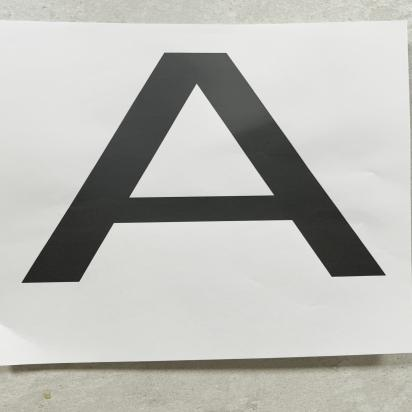seat: (37, 36, 412, 306)
